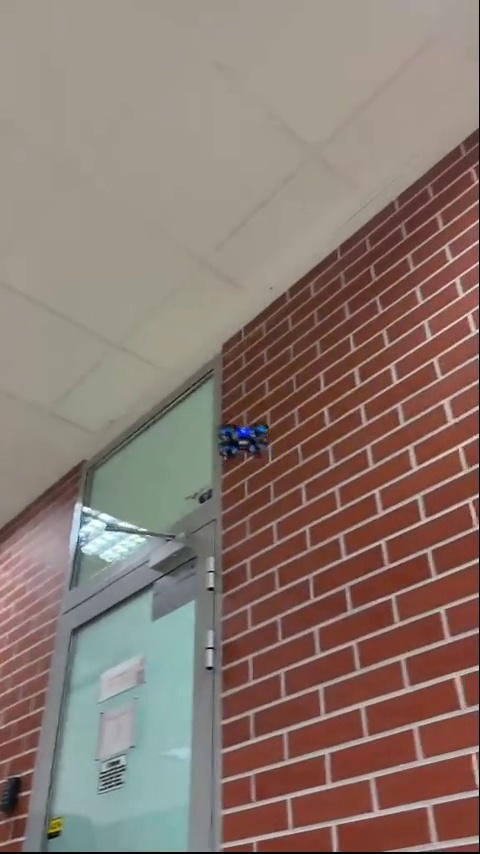drone: (219, 420, 277, 466)
